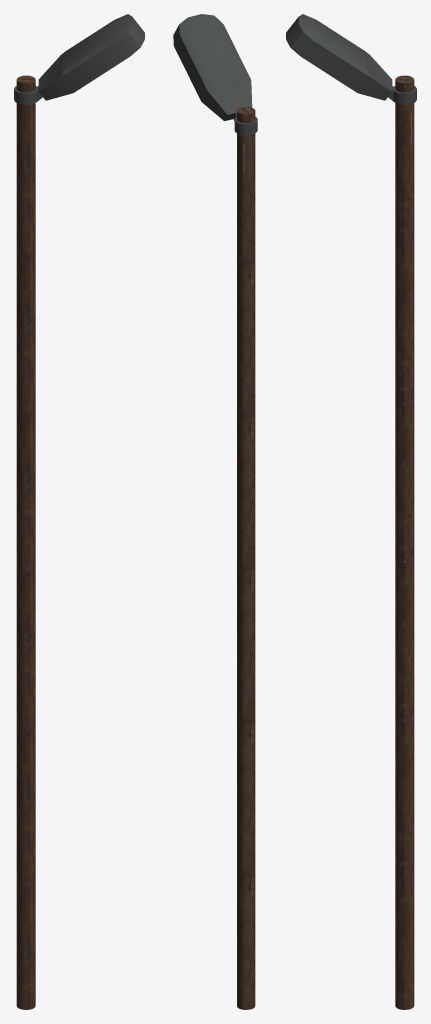
Rendered from LightPoles.fbx.
The picture shows the model from 3 angles, left to right: view 1: azimuth 90°, elevation 25°; view 2: azimuth 210°, elevation 25°; view 3: azimuth 270°, elevation 25°; orthographic projection. The views are drawn at different scales.
Parts seen in each view (by area): view 1: Light_Ploes; view 2: Light_Ploes; view 3: Light_Ploes.
Boxes of the visible parts, <box> form: Light_Ploes: <box>14,14,144,1009</box>; Light_Ploes: <box>173,14,257,1009</box>; Light_Ploes: <box>286,14,416,1009</box>.
Bounding box in the file's own units: 59.98 × 1245 × 150.
Materials: 1 (1 with a texture image).
